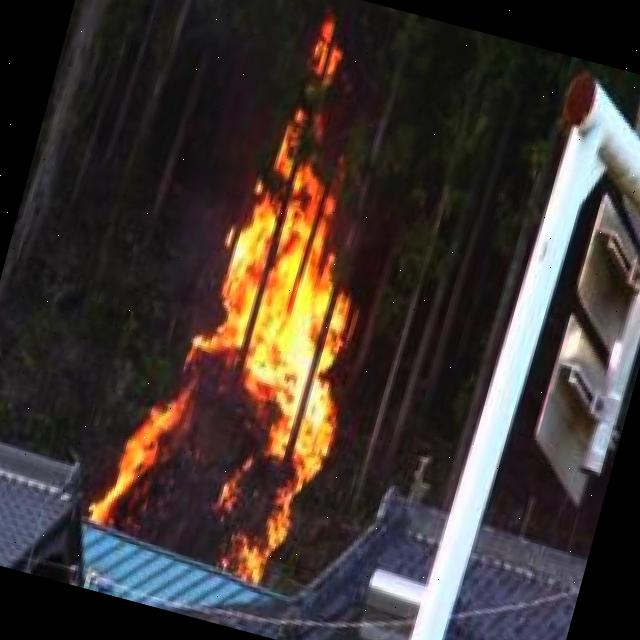fire: (88, 88, 400, 592)
